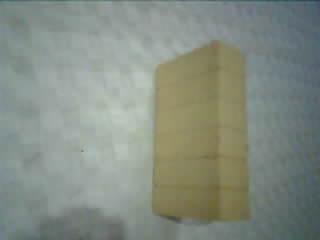lego: (150, 40, 250, 223)
